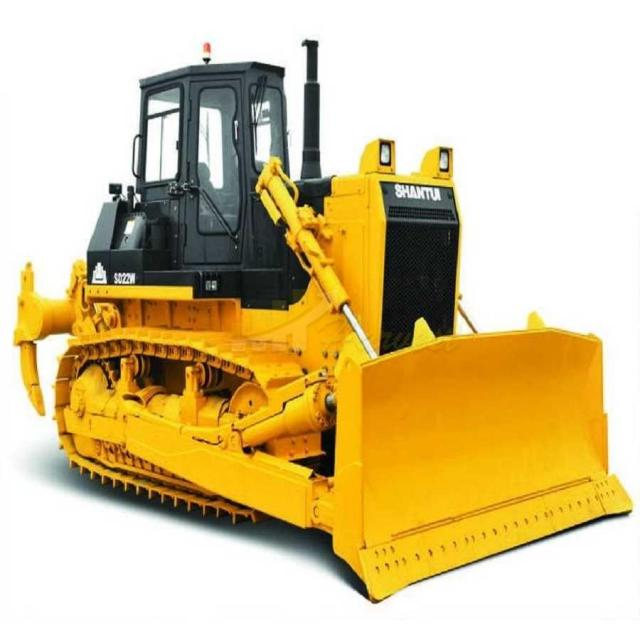Bulldozer: (15, 49, 633, 602)
